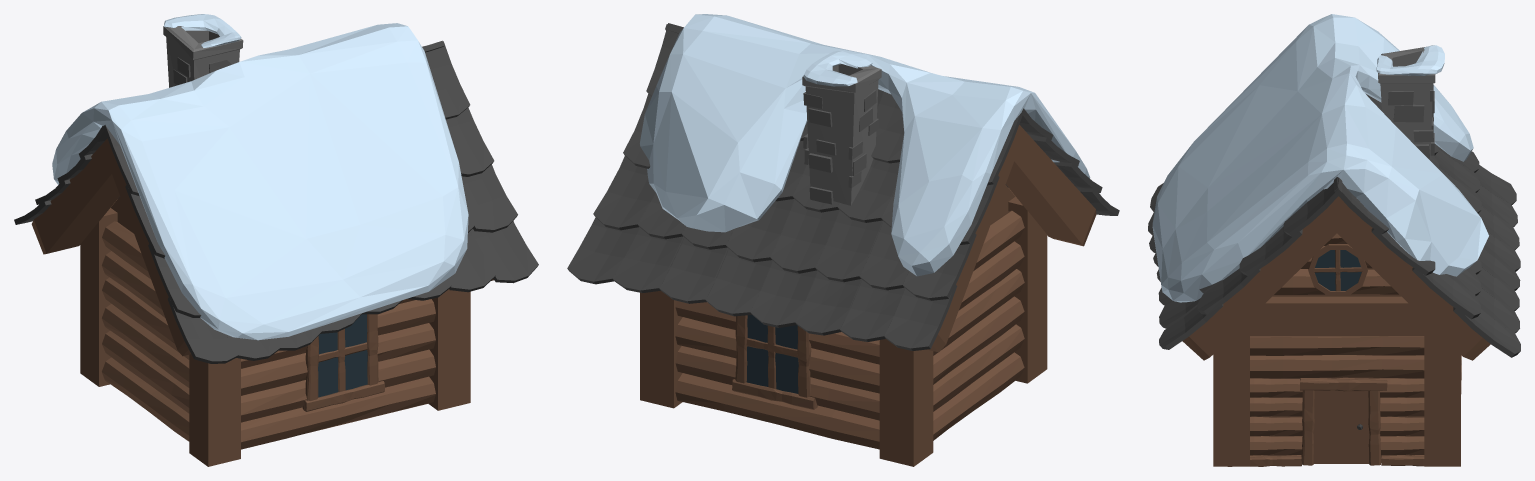
The model's file is house_type_1.glb.
3 views of the same model, side by side, from view 1: azimuth 30°, elevation 25°; view 2: azimuth 150°, elevation 25°; view 3: azimuth 270°, elevation 25° (orthographic). The views are drawn at different scales.
Visible parts, largest first — view 1: house_type_1; view 2: house_type_1; view 3: house_type_1.
Boxes of the visible parts, x1,y1,x2,y2 form: house_type_1: (14, 14, 538, 466); house_type_1: (567, 14, 1119, 466); house_type_1: (1148, 14, 1520, 466).
Bounding box in the file's own units: 4.31 × 4.07 × 4.12.
